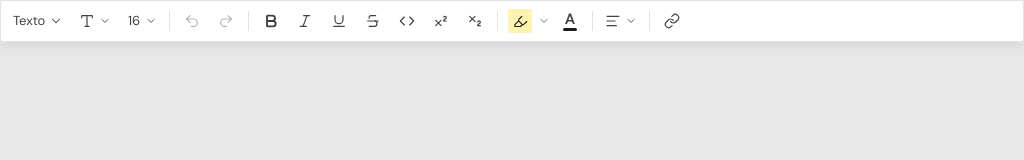
Test case: BubbleToolbarControls › applies an https link on Enter
The width and height of the screenshot is (1024, 160).
Click the button named "Enlace". click: click(672, 21)
box: top-left (656, 5), bottom-right (688, 37)
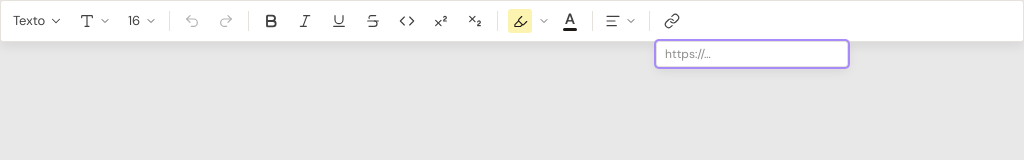
Type "https://cogni.app" into the field with test id "bubble-toolbar-link-input". click: (752, 54)
box: top-left (656, 41), bottom-right (848, 67)
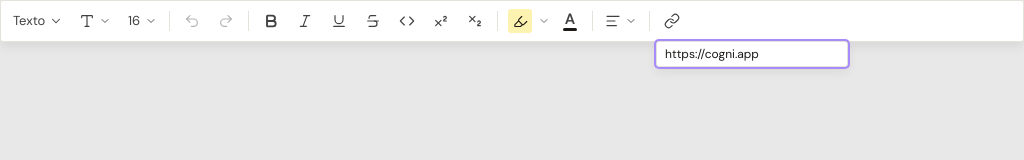
Press Enter in the field with test id "bubble-toolbar-link-input", box top-left (656, 41), bottom-right (848, 67)
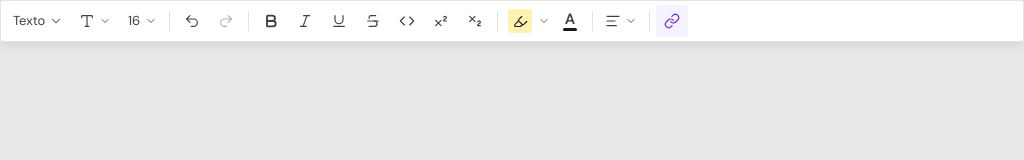
Check: the field with test id "bubble-toolbar-link-input" is gone
